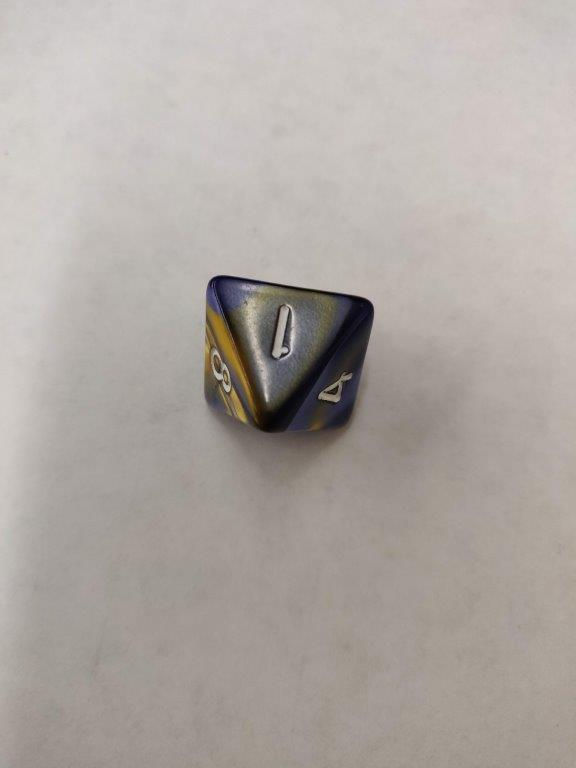d8-1: (201, 270, 376, 435)
